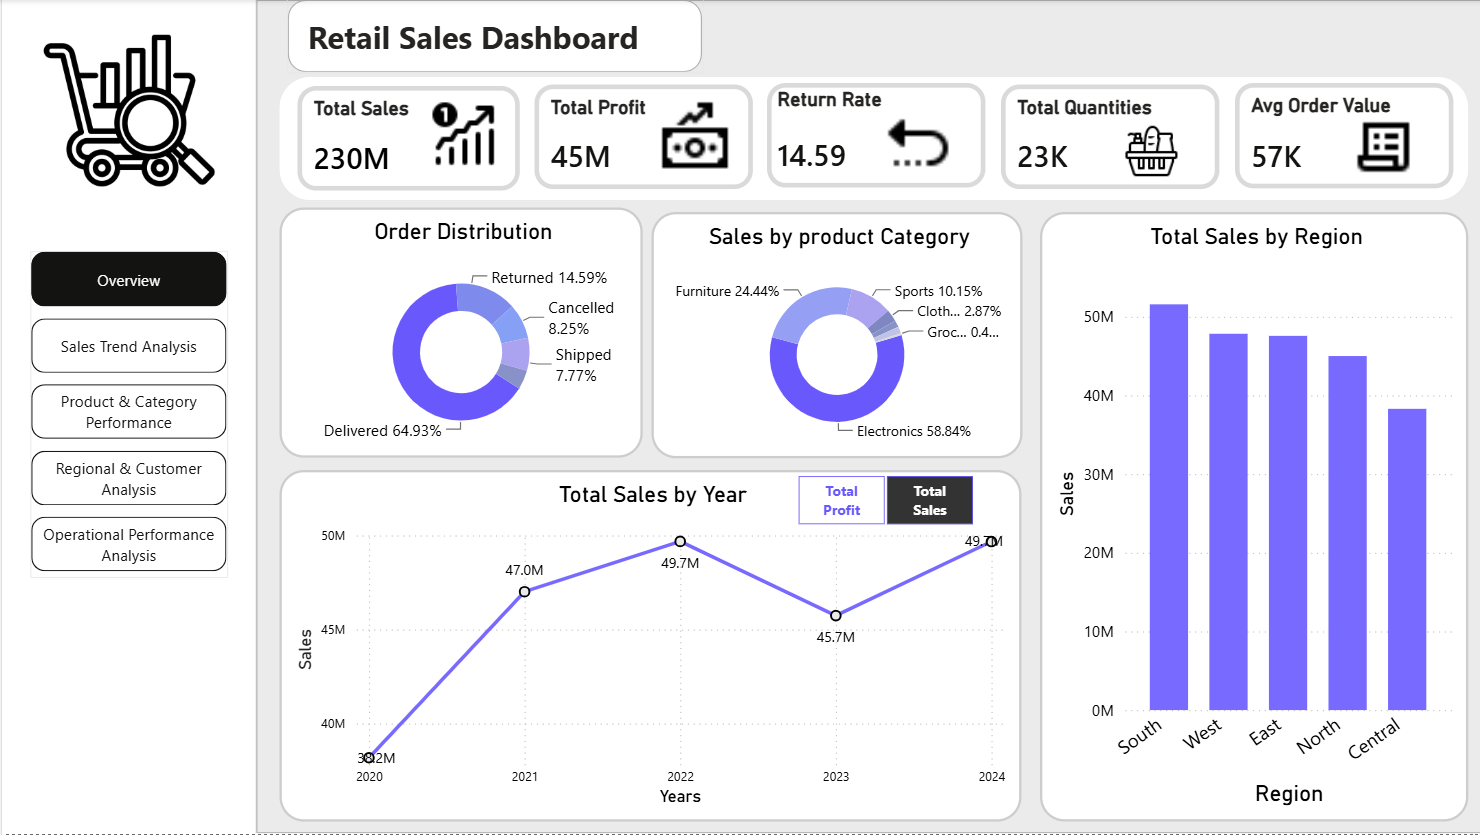

What the dashboard file says about the page in this screenshot:
{"tool":"powerbi","page":{"name":"Overview","canvas":[1280,720],"ordinal":0},"visuals":[{"type":"shape","box":[218.6,0,1061.4,720],"z":0},{"type":"image","box":[24.6,18.9,170.1,153.1],"z":1000},{"type":"shape","box":[245.7,0,358.6,64.3],"z":2000},{"type":"textbox","box":[258.6,8.6,328.6,45.7],"z":3000},{"type":"shape","box":[239.1,66.6,1023.2,105.9],"z":4000},{"type":"cardVisual","title":"Total Quantities","fields":{"Data":["retail_Sales_data_clean.total_quantity"]},"box":[860.1,74.2,188,90],"z":5000},{"type":"cardVisual","title":"Total Sales","fields":{"Data":["retail_Sales_data_clean.total_sales"]},"box":[255,74.3,191,90],"z":6000},{"type":"cardVisual","title":"Total Profit","fields":{"Data":["retail_Sales_data_clean.total_profit"]},"box":[458,73,188,90],"z":7000},{"type":"cardVisual","title":"Return Rate","fields":{"Data":["retail_Sales_data_clean.return_rate"]},"box":[659,72.7,188,90],"z":8000},{"type":"cardVisual","title":"Avg Order Value","fields":{"Data":["retail_Sales_data_clean.avg_order_value"]},"box":[1061.5,72.7,188,90.9],"z":9000},{"type":"image","box":[363.4,83.3,72.7,69.7],"z":10000},{"type":"image","box":[555,83.3,83,69.7],"z":11000},{"type":"image","box":[754.1,96.9,69.7,56],"z":12000},{"type":"image","box":[947,107.5,86,49],"z":13000},{"type":"image","box":[1155.3,99,69,56],"z":14000},{"type":"lineClusteredColumnComboChart","title":"Total Sales by Region","fields":{"Category":["retail_Sales_data_clean.region"],"Y":["retail_Sales_data_clean.total_sales"]},"box":[893.4,182.8,369,524.4],"z":15000},{"type":"donutChart","title":"Sales by product Category","fields":{"Category":["retail_Sales_data_clean.product_category"],"Y":["retail_Sales_data_clean.total_sales"]},"box":[558.6,182.8,319.4,211.8],"z":16000},{"type":"donutChart","title":"Order Distribution","fields":{"Category":["retail_Sales_data_clean.order_status"],"Y":["retail_Sales_data_clean.Order_Distribution"]},"box":[239.1,179.4,312.6,215.2],"z":17000},{"type":"lineChart","fields":{"Category":["Calendar.Year"],"Y":["retail_Sales_data_clean.total_sales"]},"box":[239.1,404.8,638.9,302.4],"z":18000},{"type":"slicer","title":"Total Profit by m","fields":{"Values":["sales_metrics.sales_metrics"]},"box":[659.4,406.6,199.9,51.2],"z":23000},{"type":"pageNavigator","box":[24.6,217.3,170.1,281.6],"z":23001}]}

Visuals, with their boxes in screenshot pixels (x1, y1, x2, y2), scaled from the page's 1280x720 canvas onto the 1480x835 screenshot:
shape: [x1=253, y1=0, x2=1479, y2=834]
image: [x1=28, y1=22, x2=225, y2=199]
shape: [x1=284, y1=0, x2=699, y2=75]
textbox: [x1=299, y1=10, x2=679, y2=63]
shape: [x1=276, y1=77, x2=1460, y2=200]
"Total Quantities" cardVisual: [x1=994, y1=86, x2=1212, y2=190]
"Total Sales" cardVisual: [x1=295, y1=86, x2=516, y2=191]
"Total Profit" cardVisual: [x1=530, y1=85, x2=747, y2=189]
"Return Rate" cardVisual: [x1=762, y1=84, x2=979, y2=189]
"Avg Order Value" cardVisual: [x1=1227, y1=84, x2=1445, y2=190]
image: [x1=420, y1=97, x2=504, y2=177]
image: [x1=642, y1=97, x2=738, y2=177]
image: [x1=872, y1=112, x2=953, y2=177]
image: [x1=1095, y1=125, x2=1194, y2=181]
image: [x1=1336, y1=115, x2=1416, y2=180]
"Total Sales by Region" lineClusteredColumnComboChart: [x1=1033, y1=212, x2=1460, y2=820]
"Sales by product Category" donutChart: [x1=646, y1=212, x2=1015, y2=458]
"Order Distribution" donutChart: [x1=276, y1=208, x2=638, y2=458]
lineChart - Calendar.Year x retail_Sales_data_clean.total_sales: [x1=276, y1=469, x2=1015, y2=820]
"Total Profit by m" slicer: [x1=762, y1=472, x2=994, y2=531]
pageNavigator: [x1=28, y1=252, x2=225, y2=579]
